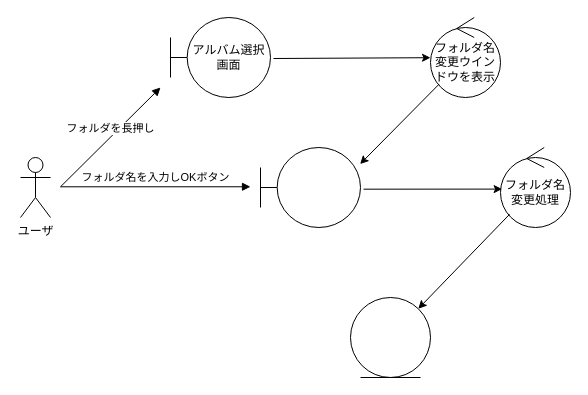
Image size: 588x395. Some labels were removed from this diagram. The centre of each missing label's shape, as x and y in pixels:
"(フォルダ名変更後）アルバム選択画面" belongs at pixel 390 337.
"フォルダ名入力画面" belongs at pixel 310 187.
